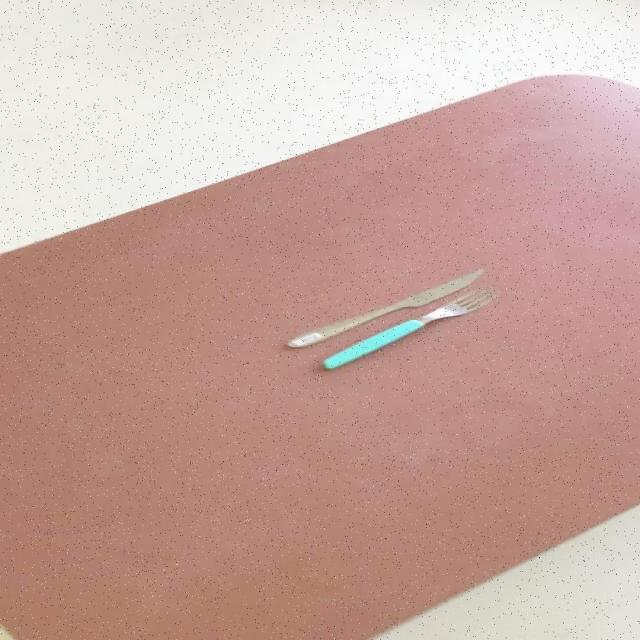Fork: (323, 286, 500, 370)
Knife: (286, 267, 487, 349)
